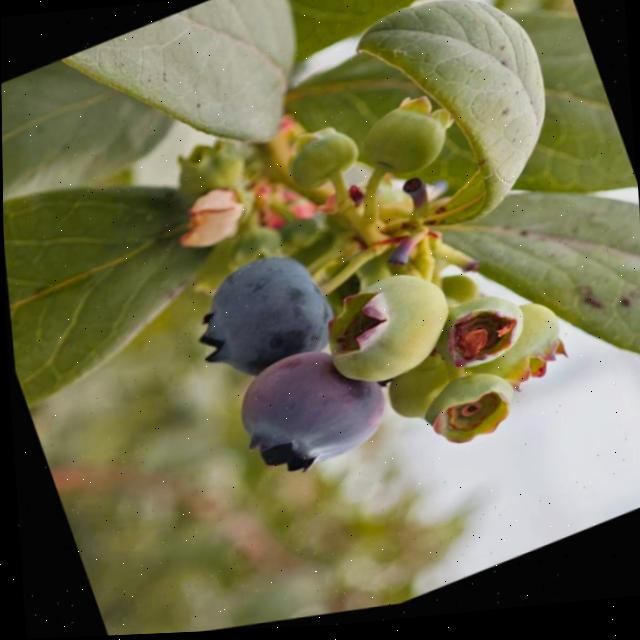RipeBlueBerry: (173, 240, 342, 404)
Semi-RipeBlueBerry: (217, 328, 400, 500)
UnripeBlueBerry: (303, 261, 468, 413)
